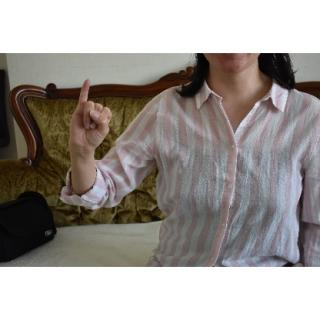MEEM: (67, 76, 115, 152)
